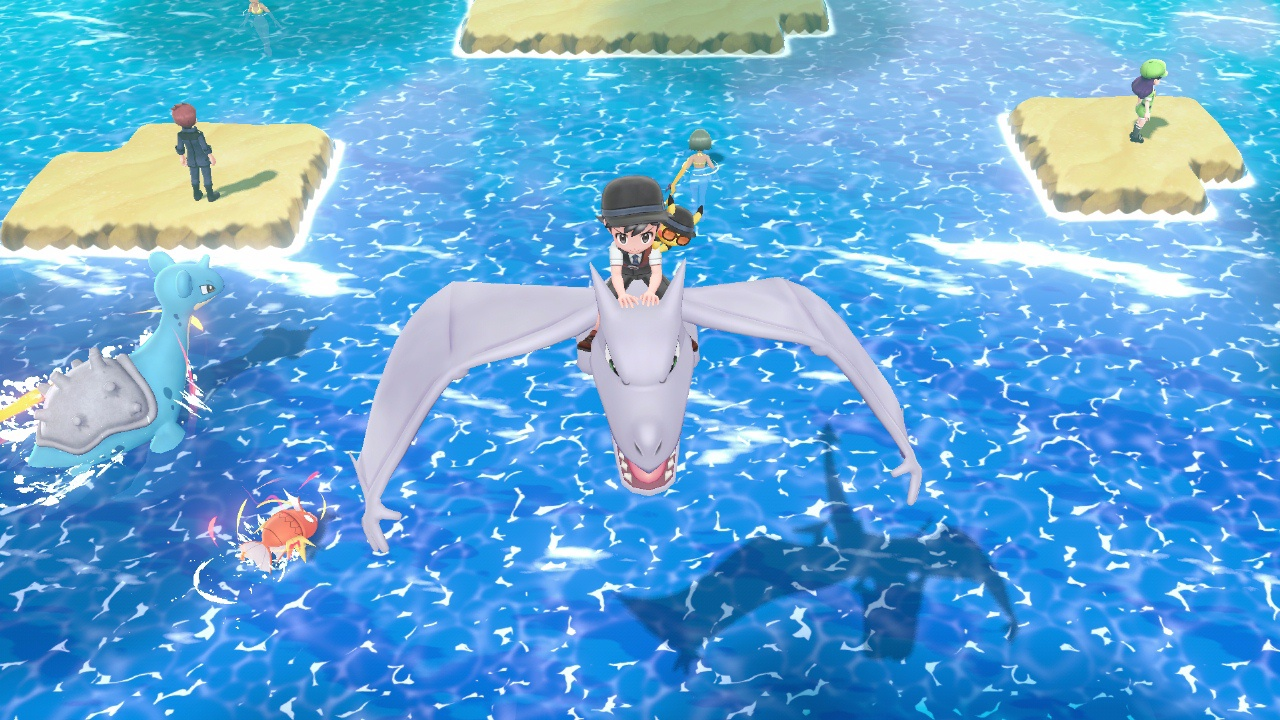Red: (235, 497, 319, 572)
